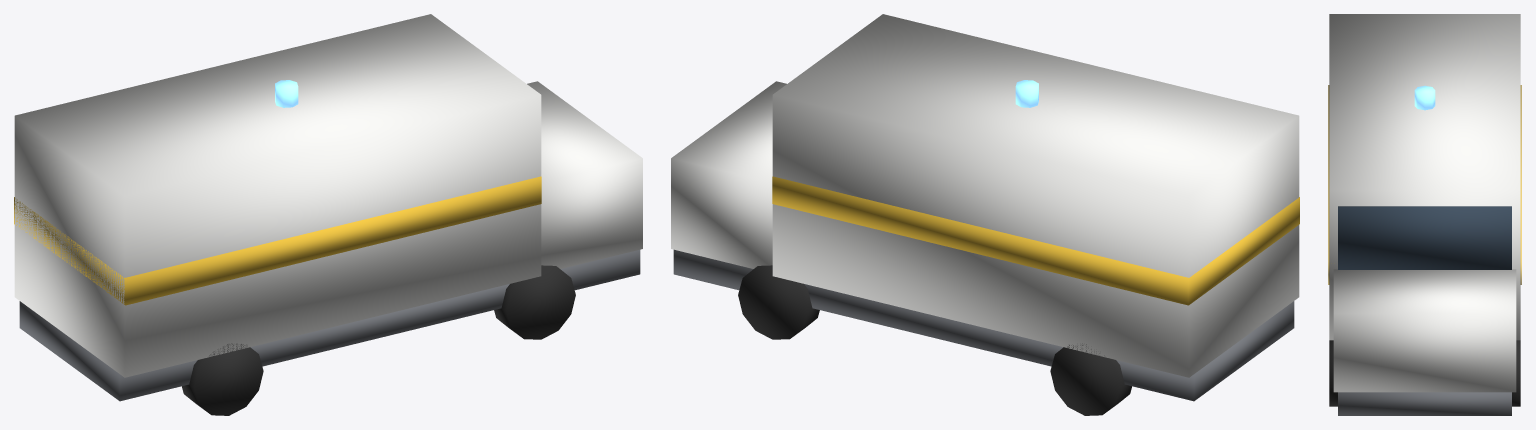
File: ambulance.glb
3 renders of one model, left to right at view 1: azimuth 30°, elevation 25°; view 2: azimuth 150°, elevation 25°; view 3: azimuth 270°, elevation 25°, orthographic. The views are drawn at different scales.
Visible parts, largest first — view 1: ambulance; view 2: ambulance; view 3: ambulance.
Boxes of the visible parts, <box> form: ambulance: <box>14,14,642,415</box>; ambulance: <box>671,14,1299,415</box>; ambulance: <box>1328,14,1521,415</box>.
Bounding box in the file's own units: 6 × 2.9 × 2.22.
